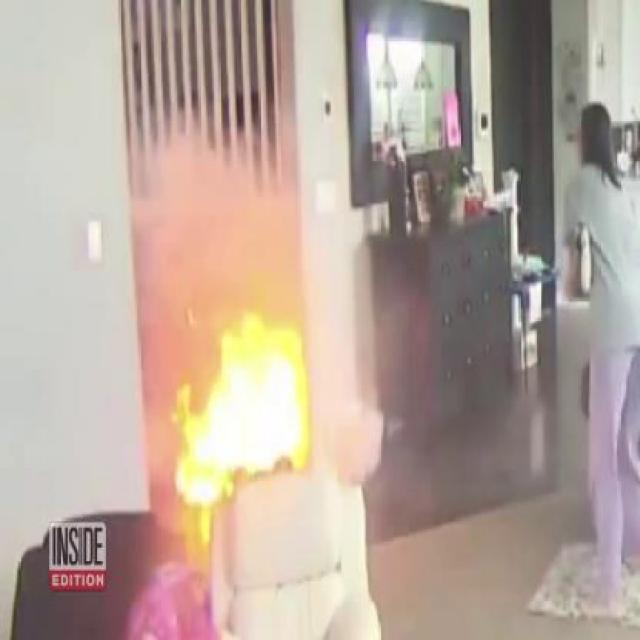fire: (172, 336, 348, 513)
smoke: (133, 159, 315, 375)
